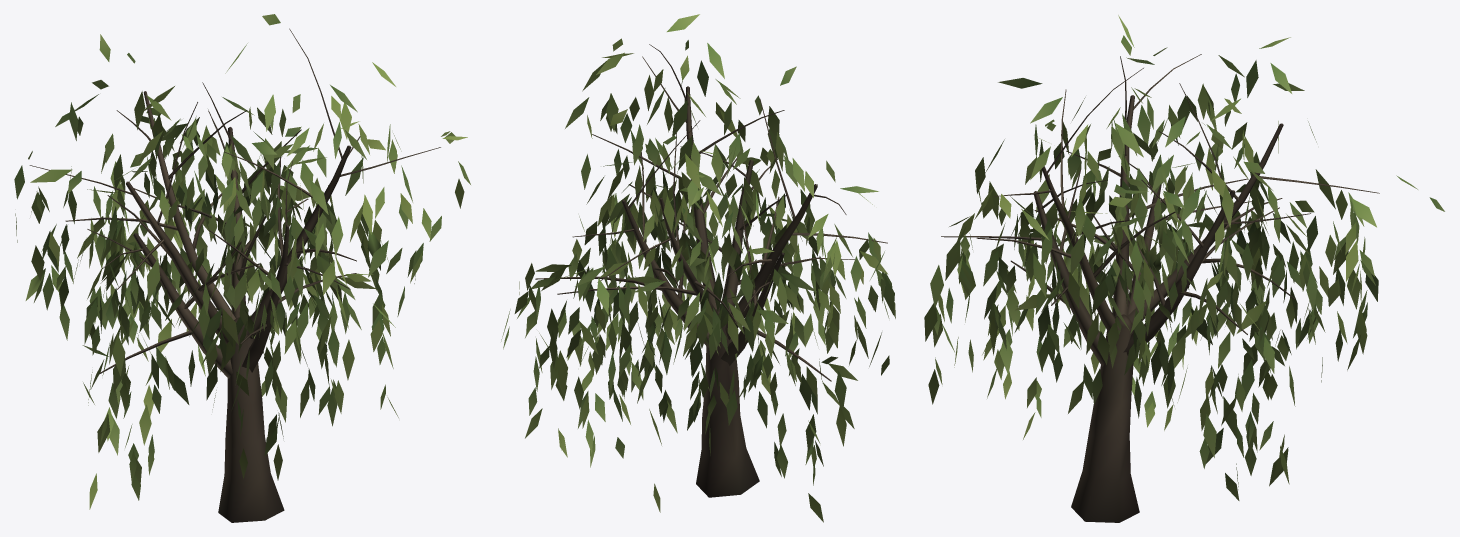
The model's file is willow-a.lod1.glb.
3 views of the same model, side by side, from view 1: azimuth 30°, elevation 25°; view 2: azimuth 150°, elevation 25°; view 3: azimuth 270°, elevation 25° (orthographic). The views are drawn at different scales.
Size of the model in its own units: 7.09 by 8.63 by 8.02.
